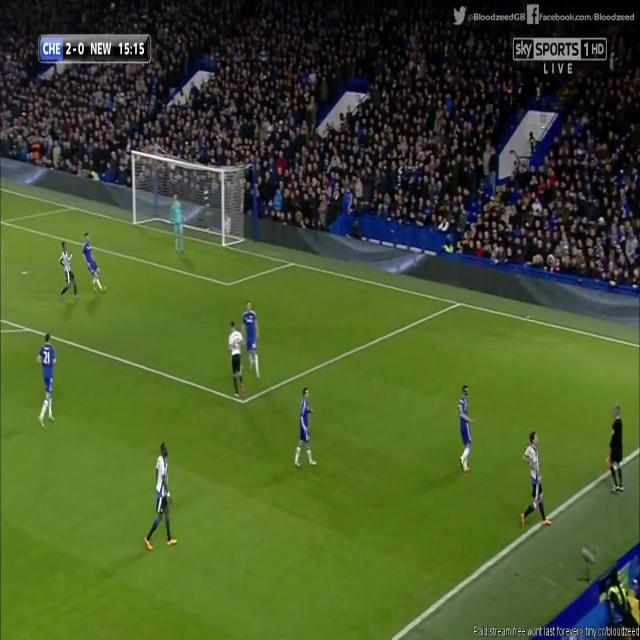Goalkeeper: (167, 191, 185, 256)
Player: (143, 439, 181, 555), (518, 426, 552, 533), (292, 386, 318, 474), (36, 330, 58, 434), (80, 226, 108, 296), (242, 295, 262, 381), (226, 316, 246, 401), (457, 382, 474, 475), (56, 238, 78, 302)
Referee: (605, 403, 627, 495)
